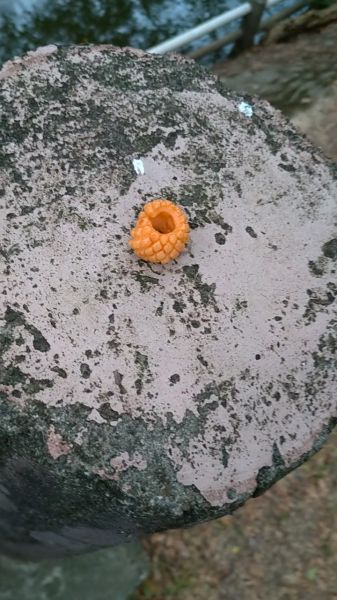eggs: (125, 195, 195, 266)
